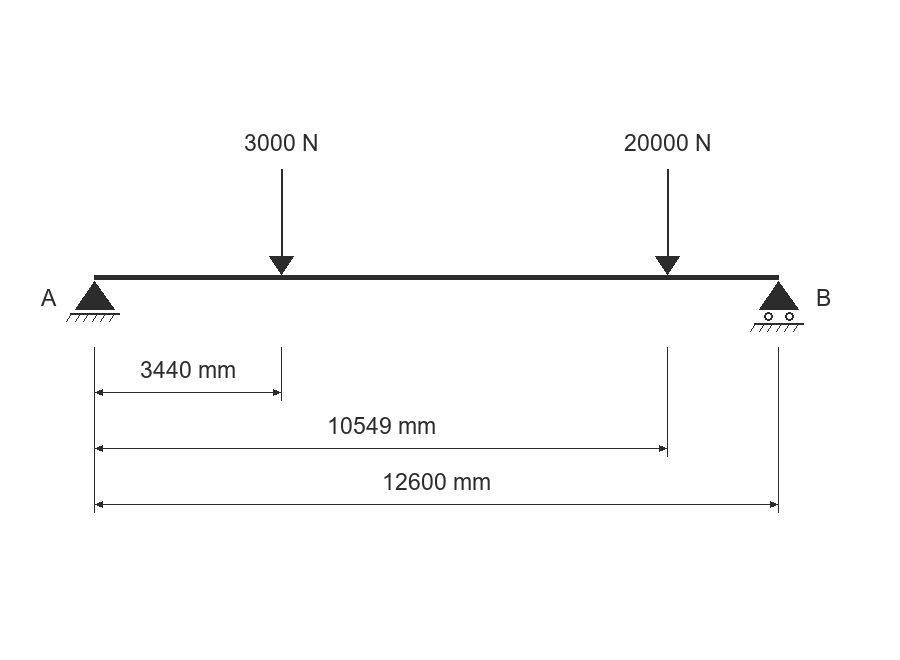pin_support: (66, 281, 120, 322)
point_load: (269, 169, 294, 275), (655, 169, 680, 275)
roller_support: (750, 281, 804, 332)
